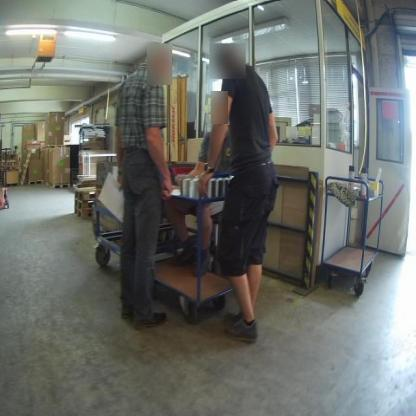pallet: (43, 181, 70, 188), (75, 191, 95, 200), (75, 200, 95, 209), (74, 207, 92, 217), (43, 142, 63, 150), (27, 180, 43, 185)
pallet_truck: (2, 147, 11, 210)
